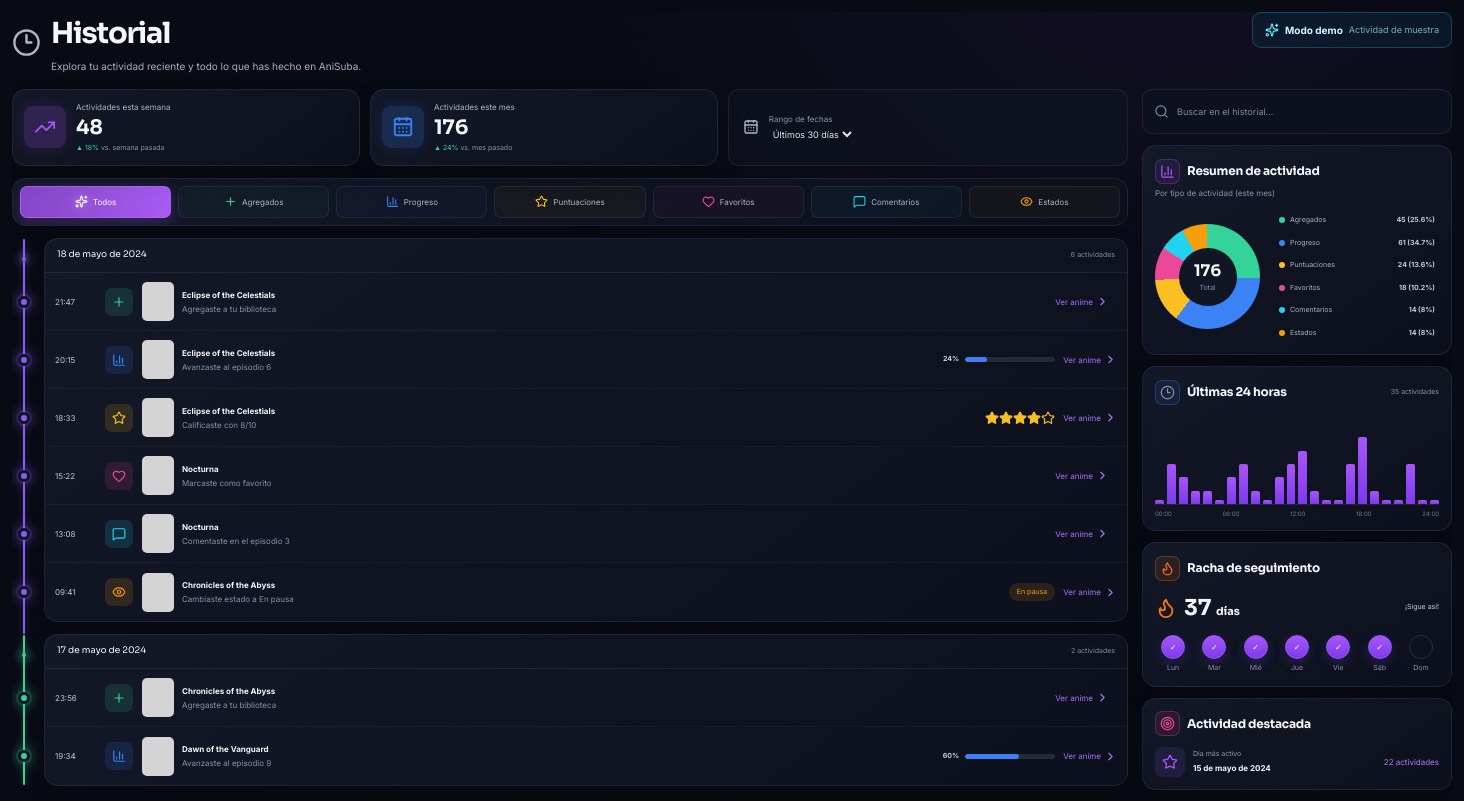
Test: HistoryPage › agrupa el tracking por fecha y conecta la leyenda con el anillo
The width and height of the screenshot is (1464, 801).
Hover over the button named "Agregados45": (1357, 220) [1275,211,1439,230]
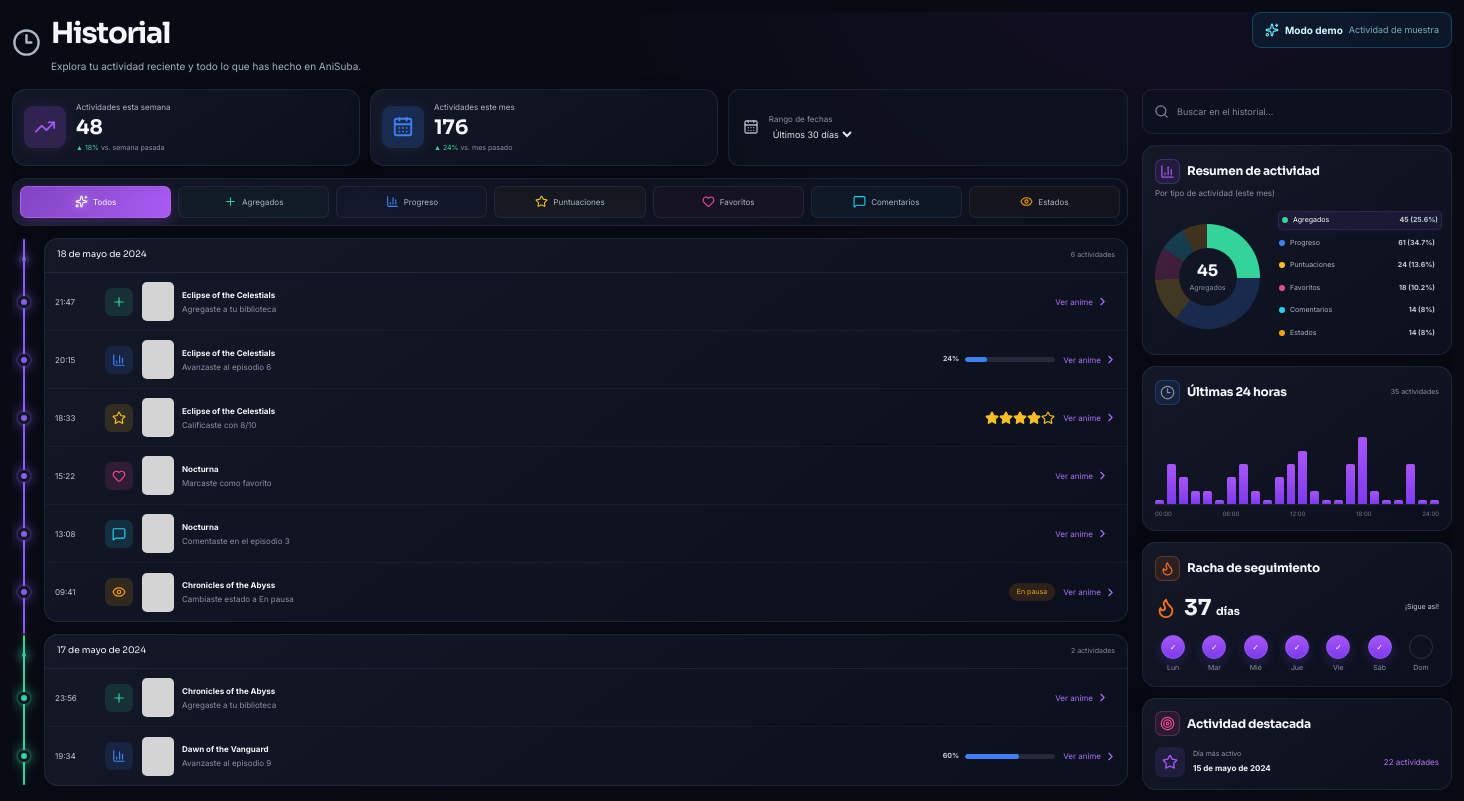
Expected: the text "45" is shown, [1197,260,1218,281]
Expected: the 2nd text "Agregados" is shown, [1189,283,1226,294]
